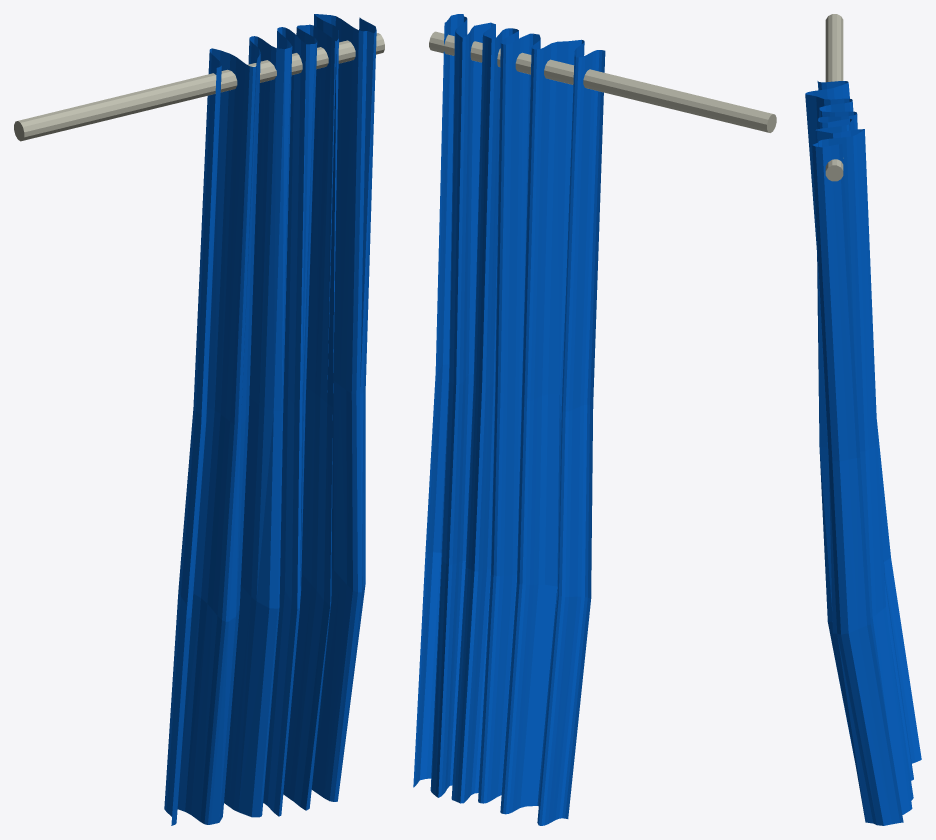
File: sweethome3d-katorlegaz-shower-curtain-87.glb
3 renders of one model, left to right at view 1: azimuth 30°, elevation 25°; view 2: azimuth 150°, elevation 25°; view 3: azimuth 270°, elevation 25°, orthographic. The views are drawn at different scales.
Visible parts, largest first — view 1: Shower_curtain, Shower_rod; view 2: Shower_curtain, Shower_rod; view 3: Shower_curtain, Shower_rod.
Boxes of the visible parts, x1=… form: Shower_curtain: x1=164, y1=14, x2=376, y2=825; Shower_rod: x1=14, y1=33, x2=384, y2=141; Shower_curtain: x1=413, y1=14, x2=605, y2=825; Shower_rod: x1=429, y1=31, x2=776, y2=132; Shower_curtain: x1=805, y1=81, x2=921, y2=825; Shower_rod: x1=825, y1=14, x2=843, y2=181.
Bounding box in the file's own units: 90.27 × 190 × 29.37.
